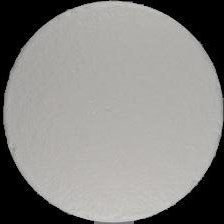68387-165: (0, 0, 224, 224)
